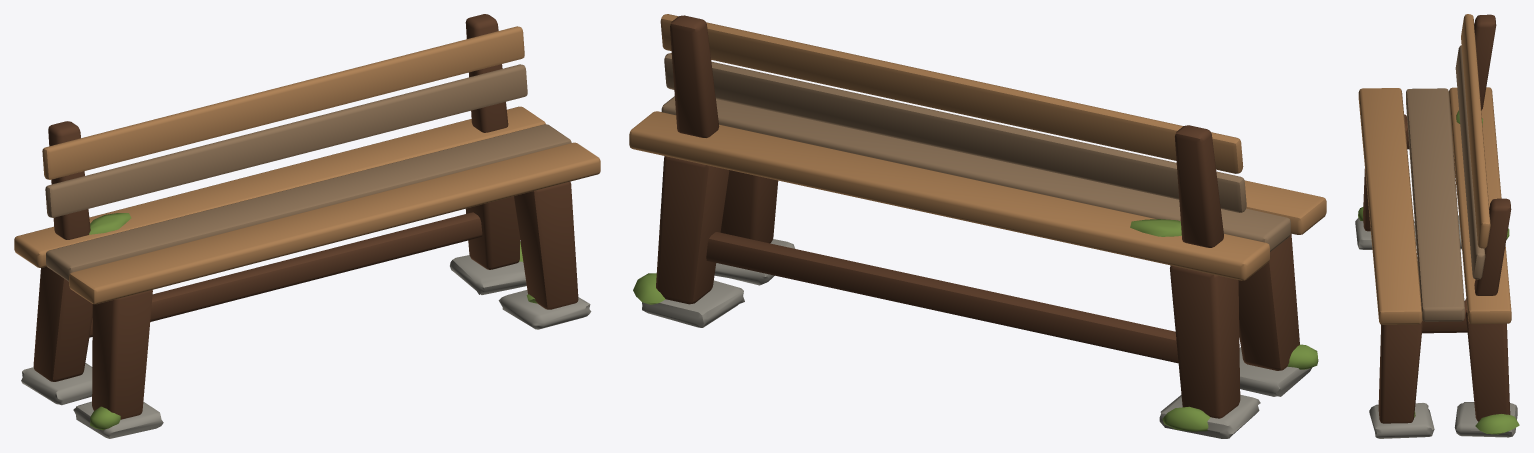
Rendered from bench.glb.
The picture shows the model from 3 angles, left to right: view 1: azimuth 30°, elevation 25°; view 2: azimuth 150°, elevation 25°; view 3: azimuth 270°, elevation 25°; orthographic projection. The views are drawn at different scales.
Visible parts, largest first — view 1: bench; view 2: bench; view 3: bench.
Part boxes in pixels (box(x1,y1,x2,y2)): bench: box(14, 14, 600, 438); bench: box(629, 14, 1326, 438); bench: box(1355, 14, 1519, 438).
Size of what is drawn, in the model's own units: 1.61 by 0.7626 by 0.5028.
